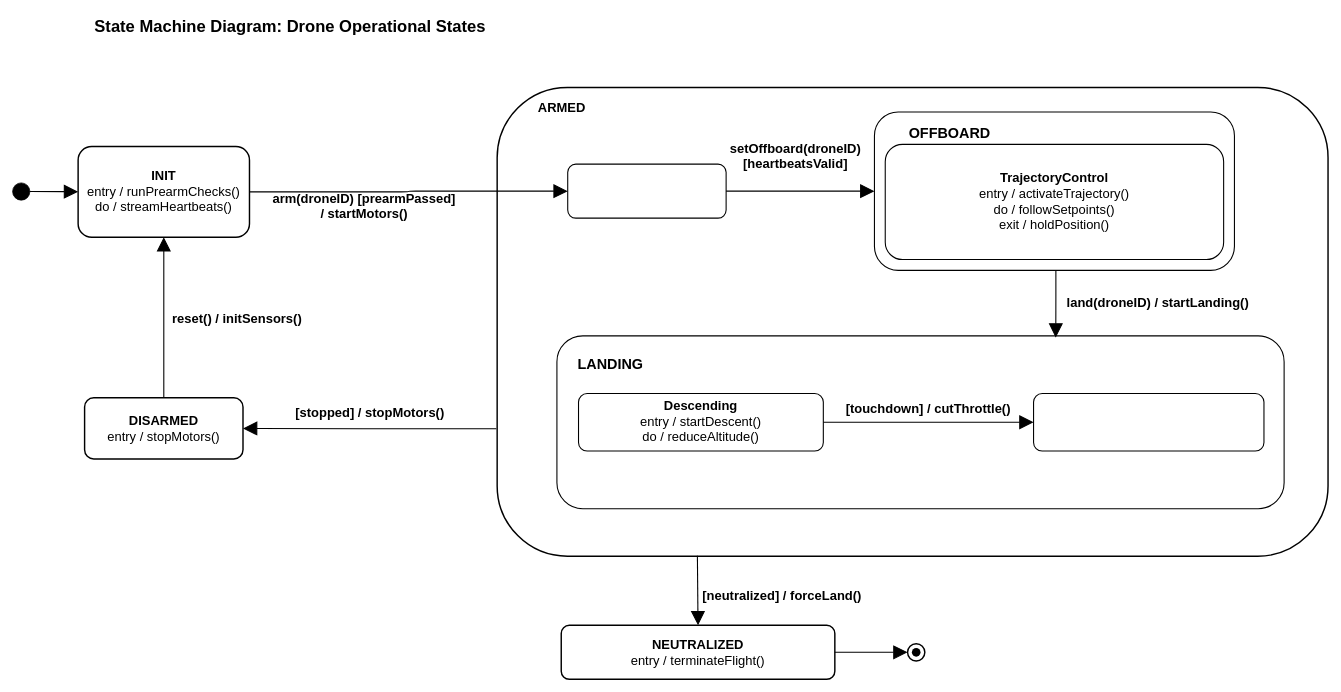
The diagram is 1341 pixels wide and 692 high, and some of its shapes have lost their labels. Here are the shapes that lost their labels. From the top down, the box of each, then its label:
(567, 163, 726, 218): MANUAL entry / manualOverride()
(1033, 393, 1264, 451): Touchdown entry / cutThrottle() do / verifyStop()
